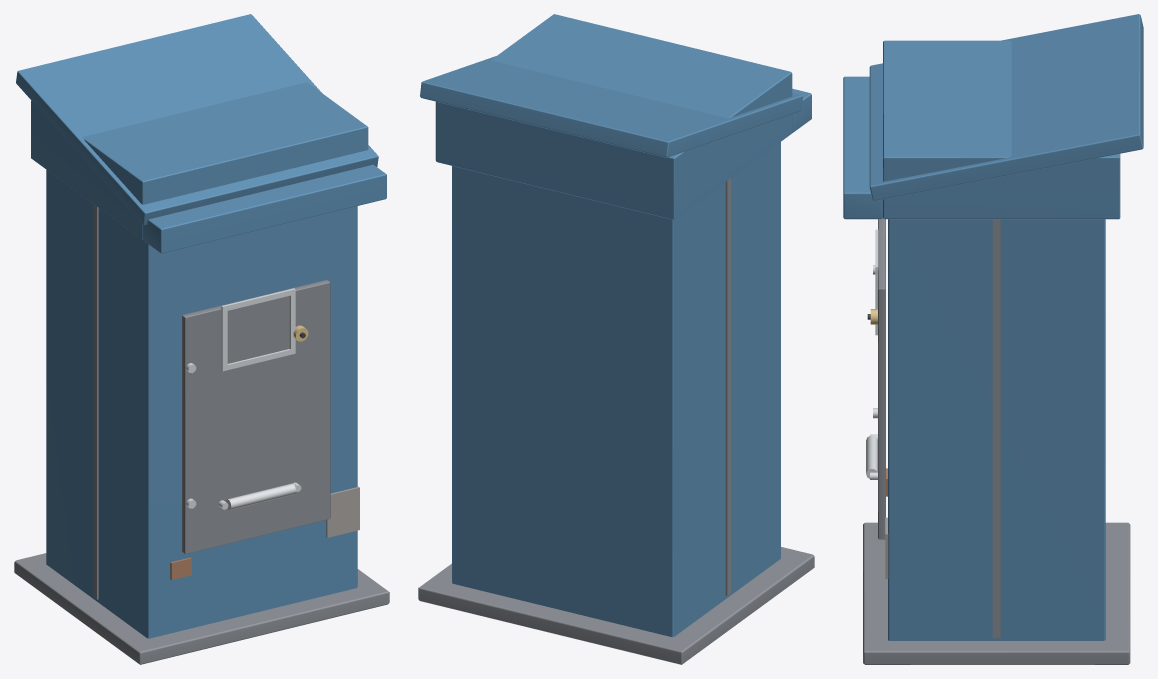
File: MailDrop_Corner.fbx
3 renders of one model, left to right at view 1: azimuth 30°, elevation 25°; view 2: azimuth 150°, elevation 25°; view 3: azimuth 270°, elevation 25°, orthographic. The views are drawn at different scales.
Parts seen in each view (by area): view 1: LOD0; view 2: LOD0; view 3: LOD0.
Part boxes in pixels (x1,y1,x2,y2): LOD0: (14,14,389,664); LOD0: (418,14,814,664); LOD0: (843,14,1143,664).
Size of what is drawn, in the model's own units: 62 by 117 by 60.69.
